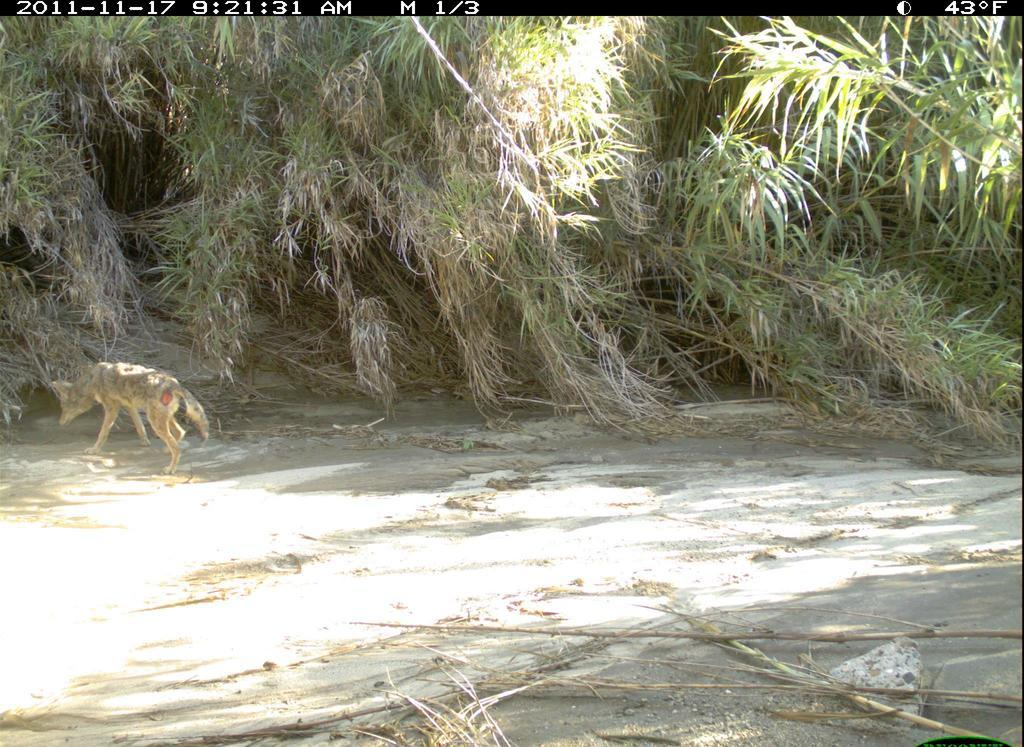coyote: (44, 359, 219, 479)
